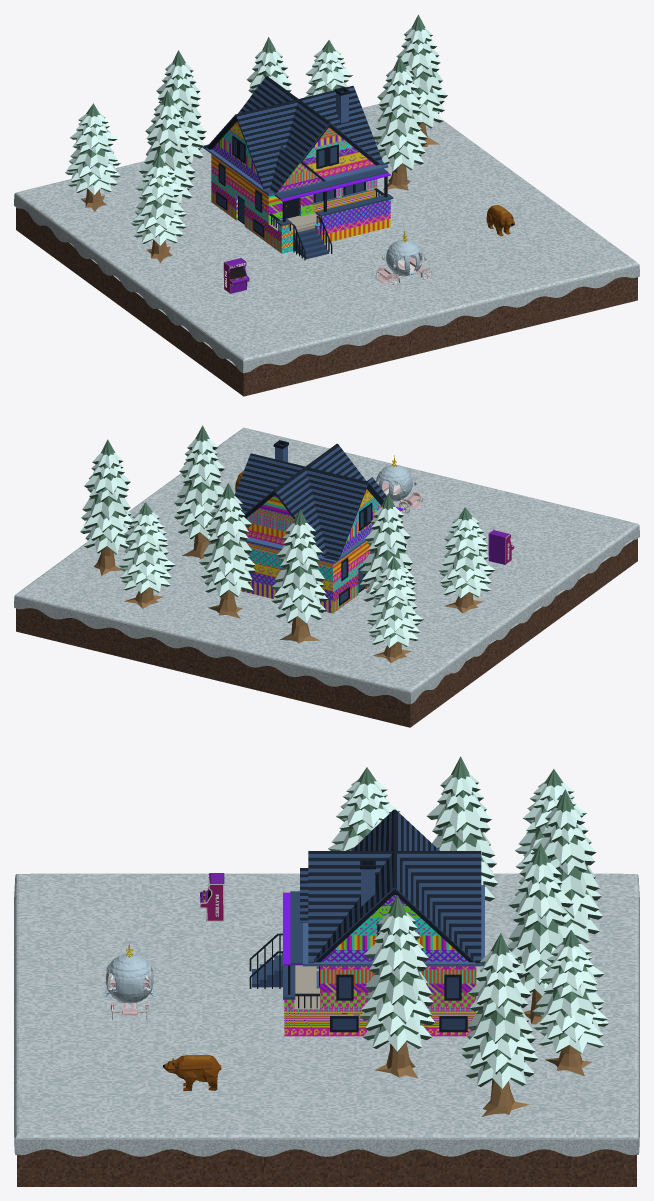
3 views of the same model, one above another, from view 1: azimuth 30°, elevation 25°; view 2: azimuth 150°, elevation 25°; view 3: azimuth 270°, elevation 25° (orthographic). The views are drawn at different scales.
Visible parts, largest first — view 1: Cube.003, Cube.676, VEHICLES_FANTASY_CARRIAGE, OBJRANDOM_ARCADE, ANIMAL_OSO; view 2: Cube.003, Cube.676, VEHICLES_FANTASY_CARRIAGE, OBJRANDOM_ARCADE; view 3: Cube.003, Cube.676, VEHICLES_FANTASY_CARRIAGE, ANIMAL_OSO, OBJRANDOM_ARCADE.
Part boxes in pixels (bbox=[...]): Cube.003: bbox=[14, 14, 639, 396]; Cube.676: bbox=[202, 76, 393, 260]; VEHICLES_FANTASY_CARRIAGE: bbox=[375, 230, 432, 288]; OBJRANDOM_ARCADE: bbox=[223, 257, 249, 293]; ANIMAL_OSO: bbox=[486, 204, 514, 236]; Cube.003: bbox=[14, 425, 639, 727]; Cube.676: bbox=[234, 440, 405, 613]; VEHICLES_FANTASY_CARRIAGE: bbox=[376, 455, 423, 513]; OBJRANDOM_ARCADE: bbox=[488, 529, 514, 564]; Cube.003: bbox=[14, 756, 639, 1186]; Cube.676: bbox=[249, 809, 484, 1036]; VEHICLES_FANTASY_CARRIAGE: bbox=[103, 943, 155, 1019]; ANIMAL_OSO: bbox=[163, 1055, 221, 1090]; OBJRANDOM_ARCADE: bbox=[200, 873, 224, 921].
Bounding box in the file's own units: 4040 × 1793 × 4040.
35 materials, 7 textured.
